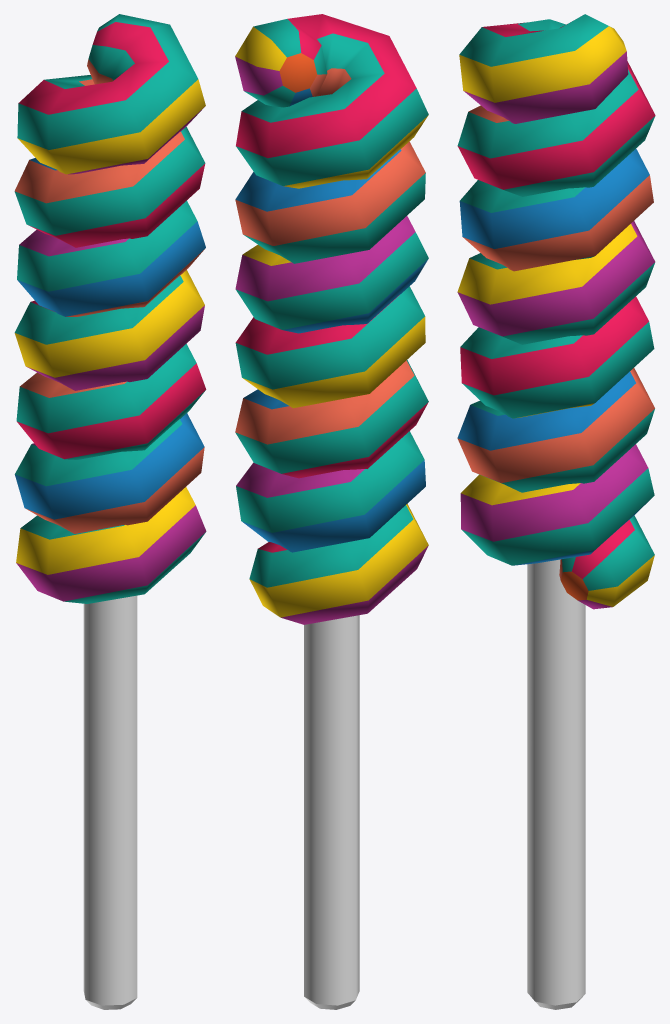
The model's file is Candy_20.fbx.
The picture shows the model from 3 angles, left to right: view 1: azimuth 30°, elevation 25°; view 2: azimuth 150°, elevation 25°; view 3: azimuth 270°, elevation 25°; orthographic projection. The views are drawn at different scales.
Parts seen in each view (by area): view 1: Candy_20; view 2: Candy_20; view 3: Candy_20.
Boxes of the visible parts, x1,y1,x2,y2 form: Candy_20: [14, 14, 206, 1009]; Candy_20: [235, 14, 428, 1009]; Candy_20: [457, 14, 655, 1009].
Size of the model in its own units: 0.4887 by 2.83 by 0.5112.
